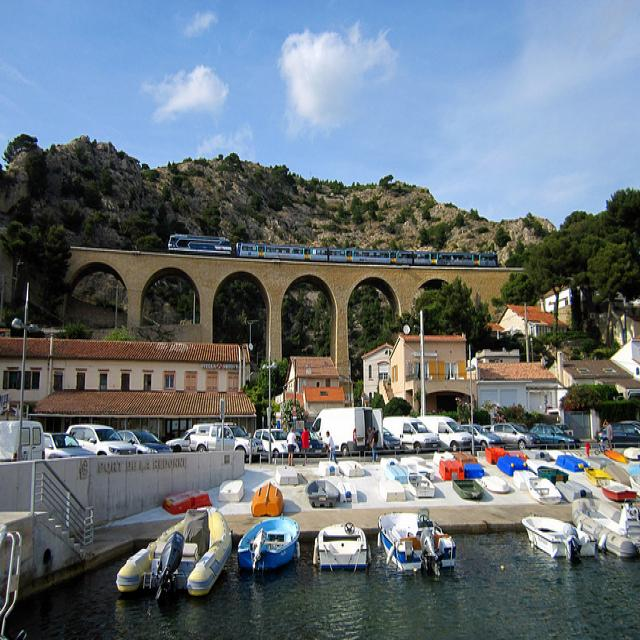Vehicle: (313, 406, 384, 454), (279, 419, 339, 469), (188, 424, 264, 463), (190, 424, 263, 462), (65, 424, 138, 456), (417, 415, 474, 451), (383, 418, 440, 446), (531, 423, 583, 453), (43, 432, 97, 460), (491, 422, 542, 450), (253, 428, 300, 458), (166, 424, 213, 452), (118, 430, 172, 452), (462, 424, 504, 451), (597, 422, 640, 448), (294, 428, 329, 458), (383, 426, 403, 450)
